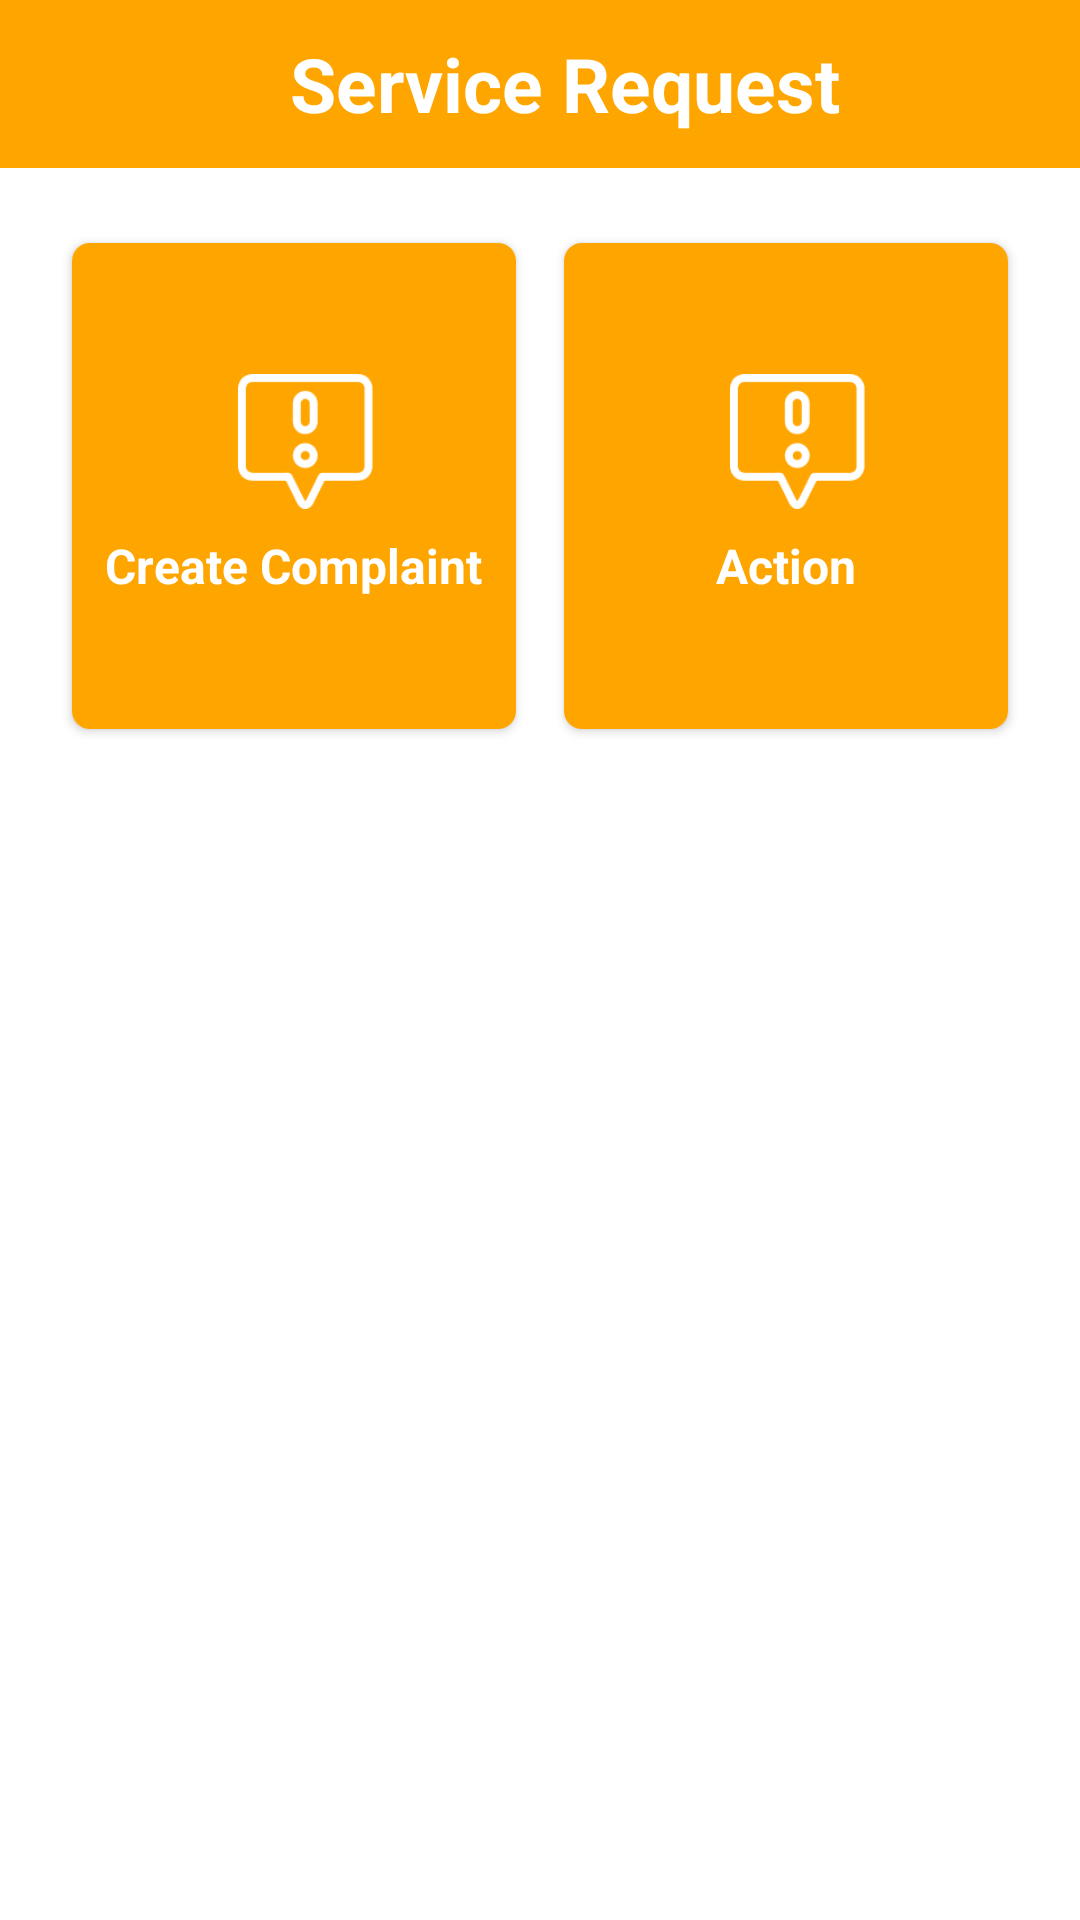

Named icons in this screenshot (1080px×1920px) and their centers, (x=x, y=y):
complaints: (x=305, y=441), (x=797, y=441)
